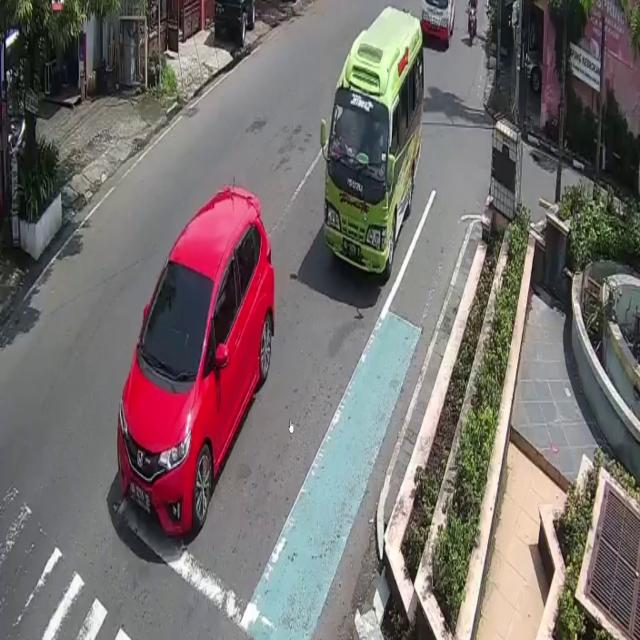bus: (467, 6, 477, 46)
car: (322, 4, 423, 280)
motorcycle: (115, 183, 276, 539)
truck: (421, 0, 456, 50)
